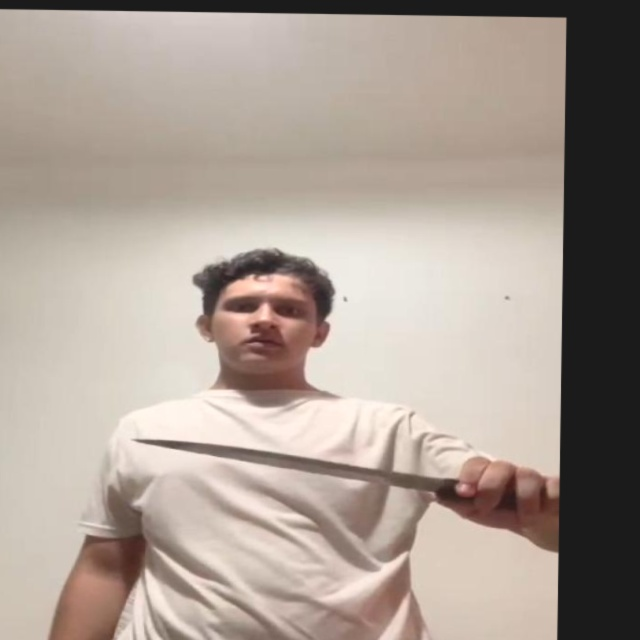Sharp-Object: (132, 437, 443, 498)
